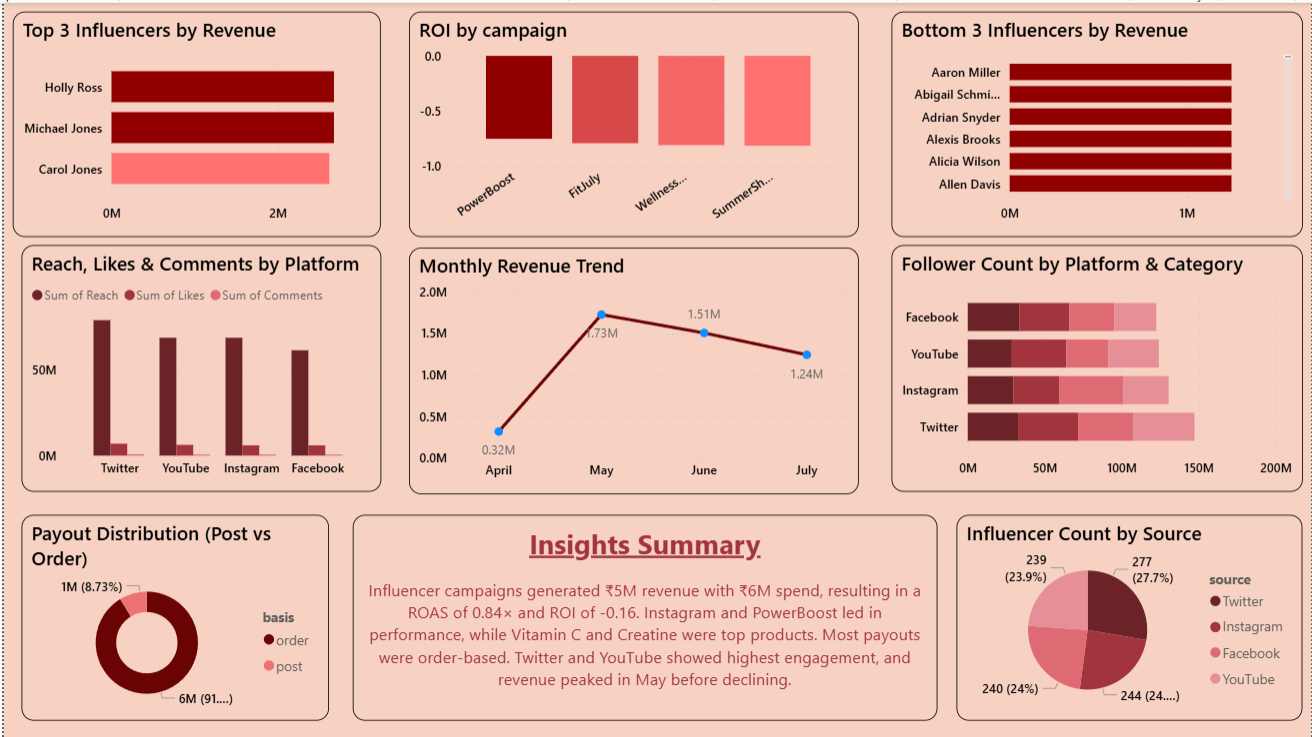

What the dashboard file says about the page in this screenshot:
{"tool":"powerbi","page":{"name":"Influencer Performance & Engagement","canvas":[1280,720],"ordinal":1},"visuals":[{"type":"pieChart","title":"Influencer Count by Source","fields":{"Category":["tracking_data.source"],"Y":["CountNonNull(influencers.ID)"]},"box":[931.9,501.3,338.4,201.6],"z":0},{"type":"clusteredColumnChart","title":"Reach, Likes & Comments by Platform","fields":{"Category":["posts.Platform"],"Y":["Sum(posts.Reach)","Sum(posts.Likes)","Sum(posts.Comments)"]},"box":[17.1,237,352,241.5],"z":1000},{"type":"barChart","title":"Follower Count by Platform & Category","fields":{"Category":["influencers.Platform"],"Y":["Sum(influencers.Follower Count)"],"Series":["influencers.Category"]},"box":[868.1,237,402.2,241.5],"z":2000},{"type":"clusteredBarChart","title":"Top 3 Influencers by Revenue","fields":{"Category":["influencers.Name"],"Y":["Sum(tracking_data.revenue)"]},"box":[9.1,8,360,221],"z":3000},{"type":"clusteredBarChart","title":"Bottom 3 Influencers by Revenue","fields":{"Category":["influencers.Name"],"Y":["Sum(tracking_data.revenue)"]},"box":[868.1,8,402.2,221],"z":4000},{"type":"donutChart","title":"\tPayout Distribution (Post vs Order)","fields":{"Category":["payouts.basis"],"Y":["Sum(payouts.total_payout)"]},"box":[17.1,501.3,301,201.6],"z":5000},{"type":"lineChart","title":"Monthly Revenue Trend","fields":{"Y":["Sum(tracking_data.revenue)"],"Category":["posts.Month Name"]},"box":[396.5,239.2,439.7,241.5],"z":6000},{"type":"clusteredColumnChart","fields":{"Y":["tracking_data.ROI"],"Category":["tracking_data.campaign"]},"box":[396.5,8,439.7,221],"z":7000},{"type":"textbox","box":[341.8,501.3,571.9,201.6],"z":8000}]}

Visuals, with their boxes in screenshot pixels (x1, y1, x2, y2), scaled from the page's 1280x720 canvas onto the 1312x737 screenshot:
"Influencer Count by Source" pieChart: 955 513 1302 719
"Reach, Likes & Comments by Platform" clusteredColumnChart: 18 243 378 490
"Follower Count by Platform & Category" barChart: 890 243 1302 490
"Top 3 Influencers by Revenue" clusteredBarChart: 9 8 378 234
"Bottom 3 Influencers by Revenue" clusteredBarChart: 890 8 1302 234
"	Payout Distribution (Post vs Order)" donutChart: 18 513 326 719
"Monthly Revenue Trend" lineChart: 406 245 857 492
clusteredColumnChart - tracking_data.ROI x tracking_data.campaign: 406 8 857 234
textbox: 350 513 937 719
